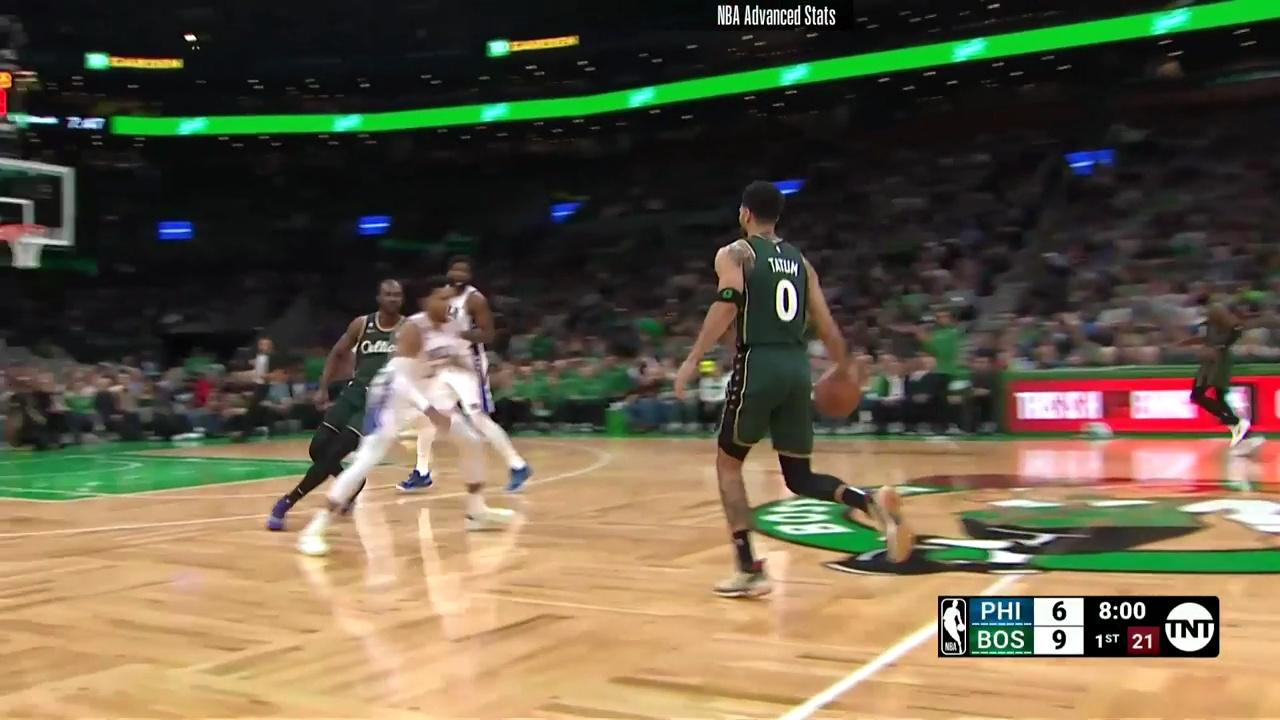Backboard: (0, 160, 70, 247)
Ball: (813, 365, 859, 420)
Basket: (8, 227, 46, 263)
Person: (699, 180, 946, 601), (278, 277, 407, 530), (411, 251, 527, 503), (363, 275, 472, 479), (1187, 291, 1269, 483)
Referee: (240, 333, 278, 437)
Shot Clock: (0, 65, 23, 134)
